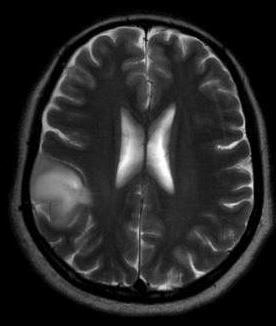Normal_Brain: (12, 1, 276, 326)
